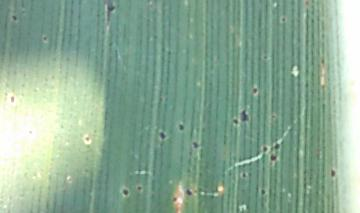tarspot: (107, 1, 115, 23), (239, 108, 249, 123), (328, 165, 336, 178), (158, 129, 167, 139), (190, 139, 199, 149), (272, 139, 280, 150), (8, 94, 16, 104), (231, 115, 239, 125), (251, 84, 259, 94), (268, 153, 278, 161), (82, 133, 90, 142), (122, 186, 129, 196), (10, 13, 18, 21), (185, 187, 193, 195), (239, 170, 247, 178), (177, 121, 184, 130), (41, 34, 48, 42), (136, 184, 143, 192), (261, 144, 268, 152), (260, 188, 267, 196), (319, 55, 325, 64), (171, 195, 178, 202), (280, 15, 287, 22), (269, 111, 276, 118), (262, 54, 269, 59)
